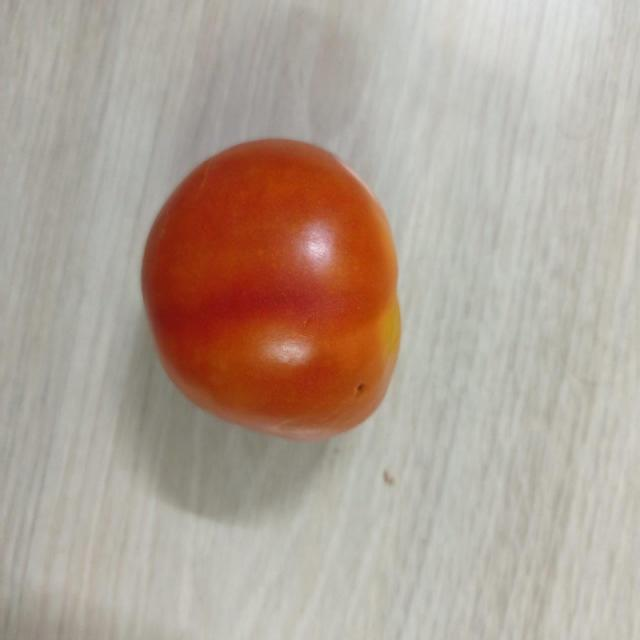Tomato: (138, 132, 406, 442)
